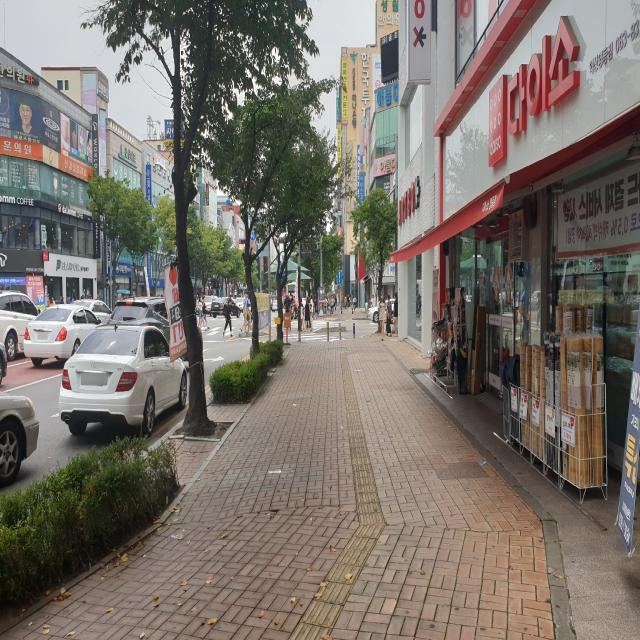횡단보도: (274, 333, 348, 342)
